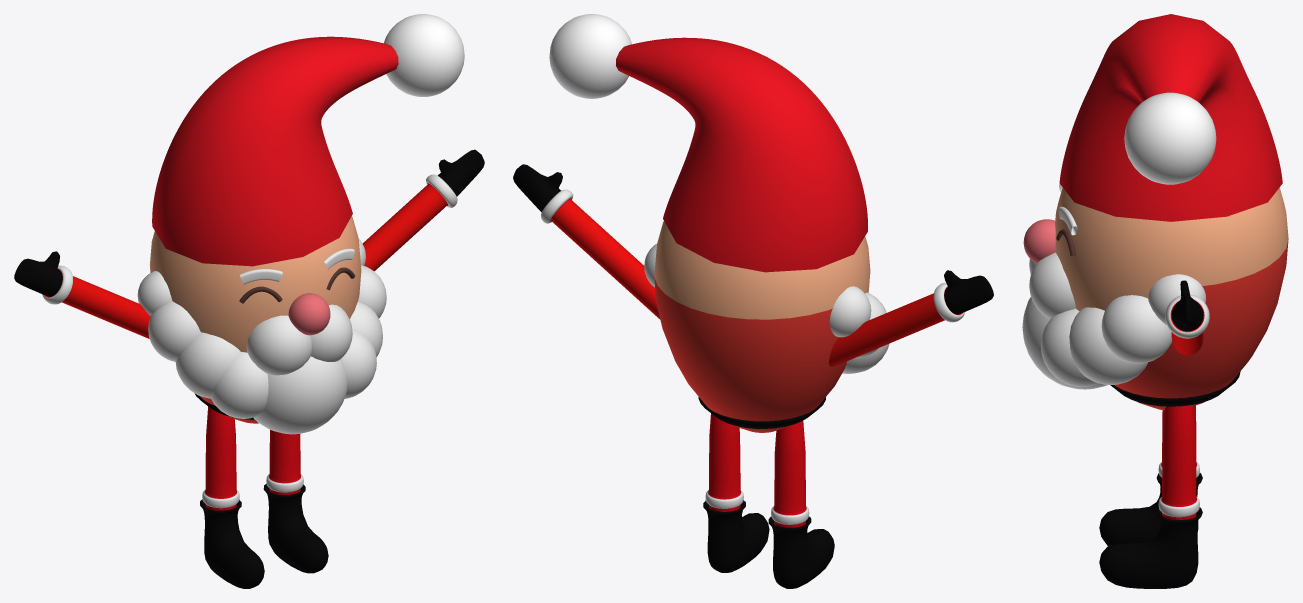
The model's file is santa.fbx.
The picture shows the model from 3 angles, left to right: view 1: azimuth 30°, elevation 25°; view 2: azimuth 150°, elevation 25°; view 3: azimuth 270°, elevation 25°; orthographic projection. The views are drawn at different scales.
Visible parts, largest first — view 1: NurbsPath, Sphere, Sphere.013, Sphere.001, Cylinder.003, Cylinder.002, Cube, Cube.001, Cylinder, Sphere.008, Sphere.003, Sphere.005 (+8 smaller); view 2: NurbsPath, Sphere, Cylinder.003, Cylinder.002, Sphere.013, Cube, Cube.001, Cylinder, Cylinder.001, Sphere.012; view 3: NurbsPath, Sphere, Sphere.013, Cube.001, Cylinder.001, Sphere.006, Sphere.004, Cylinder.003, Cube, Sphere.002, Sphere.009, Sphere.001 (+2 smaller).
Boxes of the visible parts, <box> form: NurbsPath: <box>152,36,398,266</box>; Sphere: <box>150,216,361,423</box>; Sphere.013: <box>384,14,464,96</box>; Sphere.001: <box>253,356,347,434</box>; Cylinder.003: <box>362,149,484,271</box>; Cylinder.002: <box>14,251,150,338</box>; Cube: <box>200,499,264,588</box>; Cube.001: <box>263,483,328,573</box>; Cylinder: <box>202,406,239,510</box>; Sphere.008: <box>246,315,311,375</box>; Sphere.003: <box>210,352,268,418</box>; Sphere.005: <box>175,332,240,398</box>; NurbsPath: <box>616,37,867,272</box>; Sphere: <box>654,221,870,432</box>; Cylinder.003: <box>513,164,660,319</box>; Cylinder.002: <box>828,270,993,366</box>; Sphere.013: <box>549,14,631,98</box>; Cube: <box>768,516,834,588</box>; Cube.001: <box>703,500,769,572</box>; Cylinder: <box>771,421,809,527</box>; Cylinder.001: <box>705,413,743,511</box>; Sphere.012: <box>829,286,871,337</box>; NurbsPath: <box>1059,14,1282,221</box>; Sphere: <box>1055,187,1288,410</box>; Sphere.013: <box>1124,92,1216,184</box>; Cube.001: <box>1099,507,1202,588</box>; Cylinder.001: <box>1158,404,1199,519</box>; Sphere.006: <box>1101,295,1172,363</box>; Sphere.004: <box>1069,307,1147,384</box>; Cylinder.003: <box>1165,280,1209,355</box>; Cube: <box>1099,473,1202,546</box>; Sphere.002: <box>1041,308,1098,387</box>; Sphere.009: <box>1029,252,1075,318</box>; Sphere.001: <box>1022,297,1107,389</box>.
Size of the model in its own units: 512 by 530 by 227.
